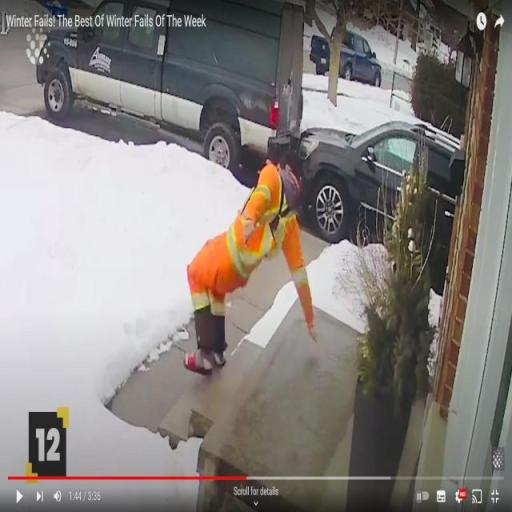Fall: (182, 149, 320, 379)
